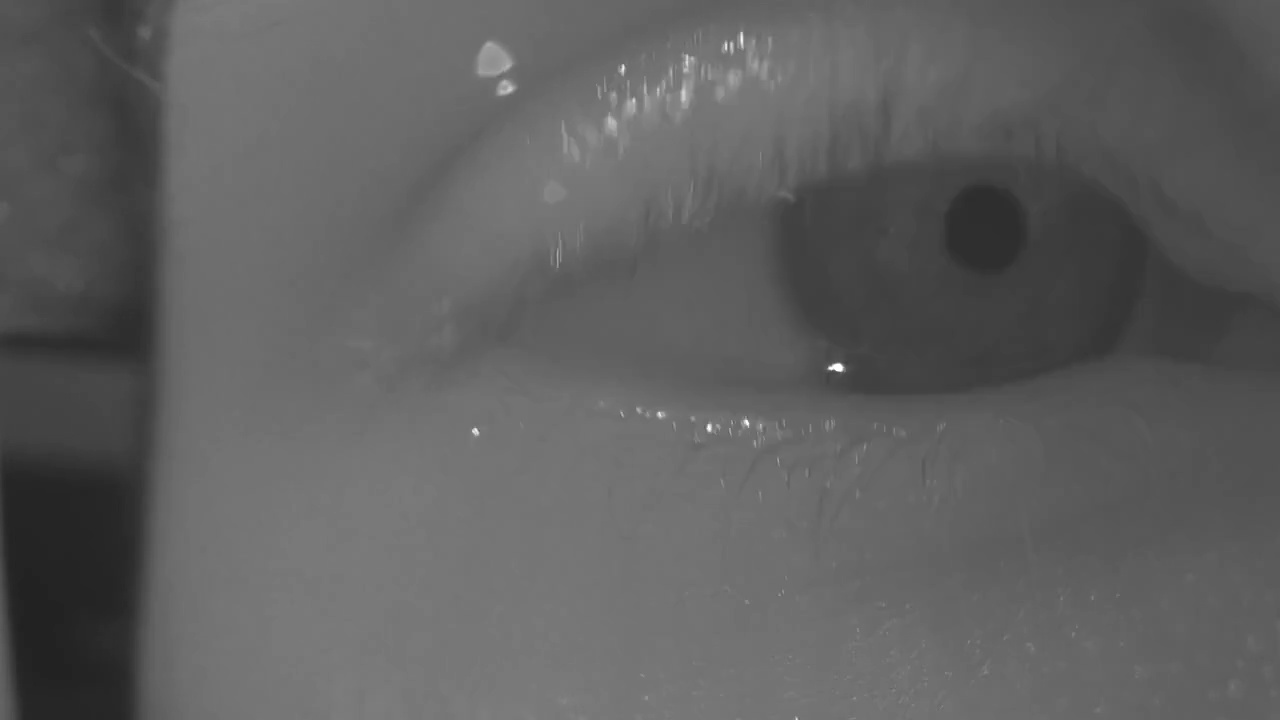pupil: (945, 184, 1028, 272)
